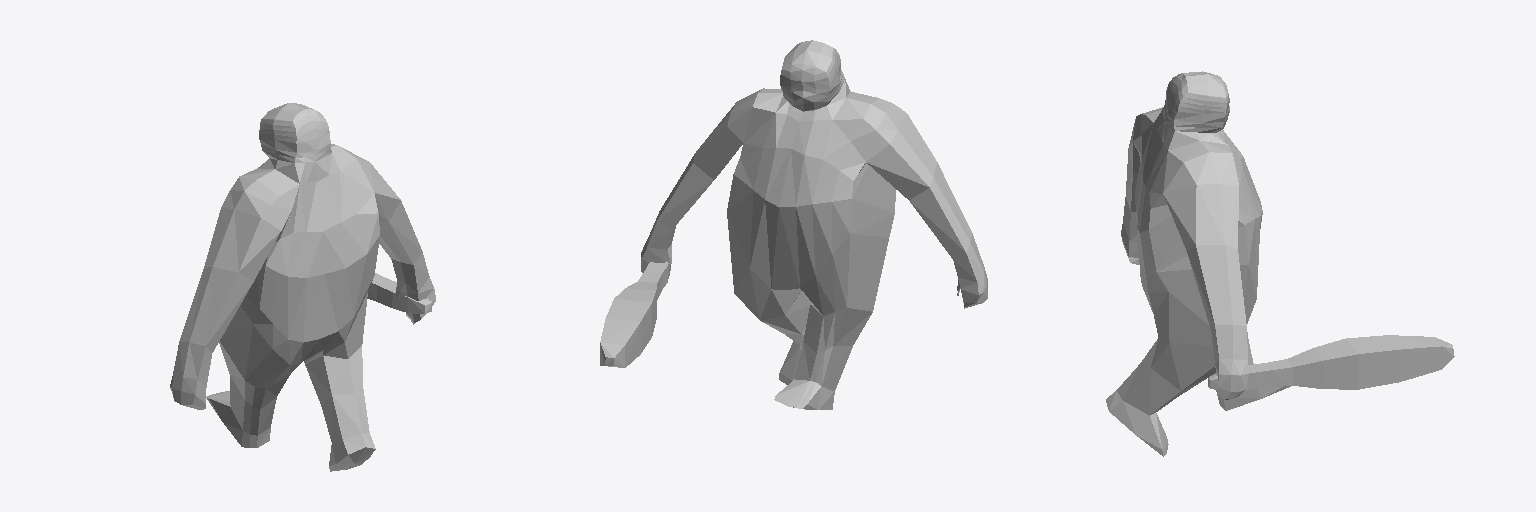
The model's file is Enemigo222.obj.
3 views of the same model, side by side, from view 1: azimuth 30°, elevation 25°; view 2: azimuth 150°, elevation 25°; view 3: azimuth 270°, elevation 25° (orthographic).
Parts seen in each view (by area): view 1: Cube; view 2: Cube; view 3: Cube.
Part boxes in pixels (left/top/right/bottom): Cube: left=170, top=103, right=435, bottom=471; Cube: left=600, top=40, right=987, bottom=409; Cube: left=1106, top=71, right=1454, bottom=456.
Bounding box in the file's own units: 2.45 × 2.82 × 2.47.